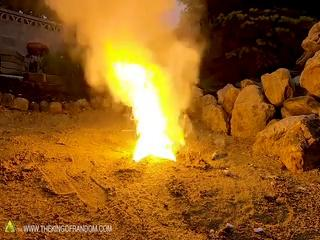Fire: (110, 46, 183, 161)
